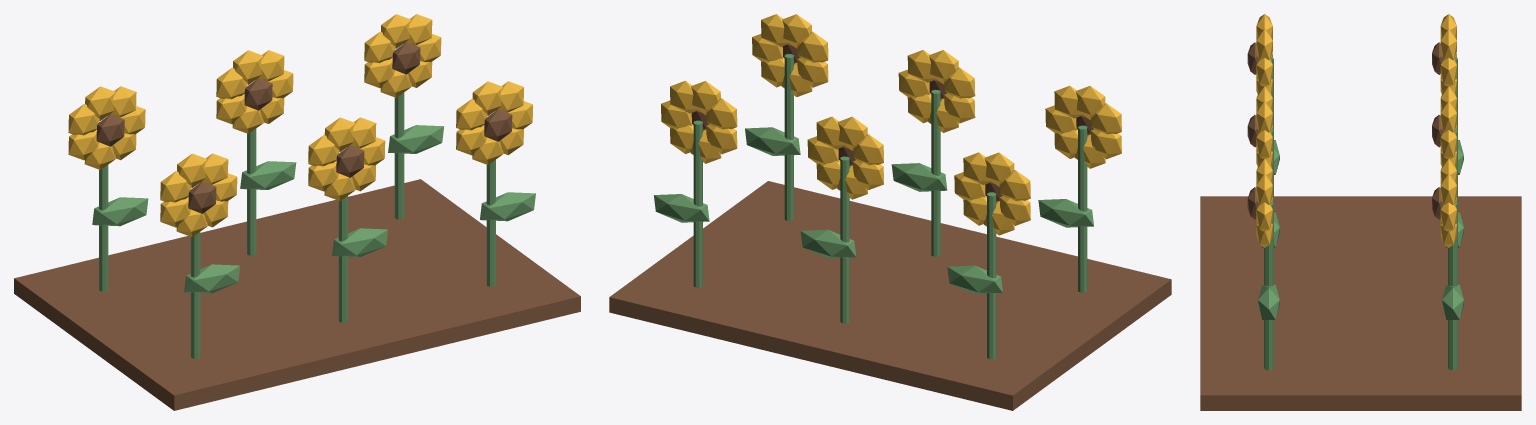
File: nature_sunflowers.glb
3 views of the same model, side by side, from view 1: azimuth 30°, elevation 25°; view 2: azimuth 150°, elevation 25°; view 3: azimuth 270°, elevation 25° (orthographic).
Parts seen in each view (by area): view 1: nature_sunflowers; view 2: nature_sunflowers; view 3: nature_sunflowers.
Boxes of the visible parts, left/top/right/bottom form: nature_sunflowers: left=14, top=14, right=580, bottom=410; nature_sunflowers: left=609, top=14, right=1171, bottom=410; nature_sunflowers: left=1200, top=14, right=1521, bottom=410.
Size of the model in its own units: 2.2 by 1.15 by 1.5.
